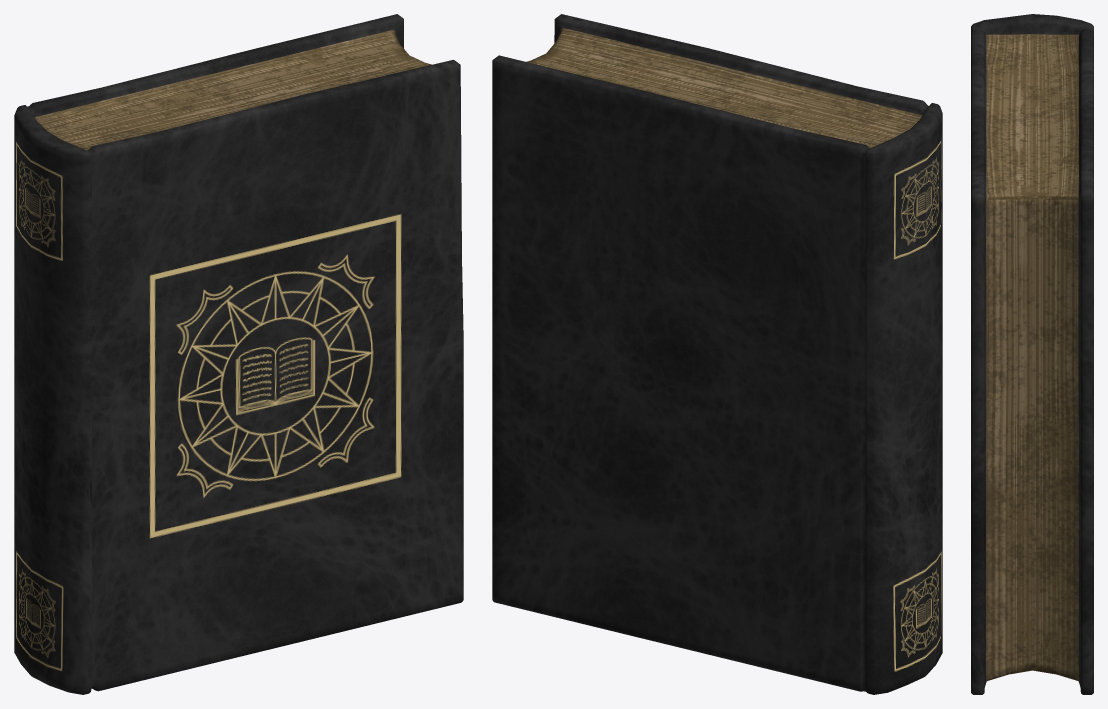
The picture shows the model from 3 angles, left to right: view 1: azimuth 30°, elevation 25°; view 2: azimuth 150°, elevation 25°; view 3: azimuth 270°, elevation 25°; orthographic projection. The views are drawn at different scales.
Parts seen in each view (by area): view 1: BookA; view 2: BookA; view 3: BookA.
Boxes of the visible parts, x1,y1,x2,y2 form: BookA: [14, 14, 463, 694]; BookA: [492, 14, 942, 694]; BookA: [971, 14, 1093, 694].
Size of the model in its own units: 15.7 by 20.35 by 4.5.
Materials: 1 (1 with a texture image).
